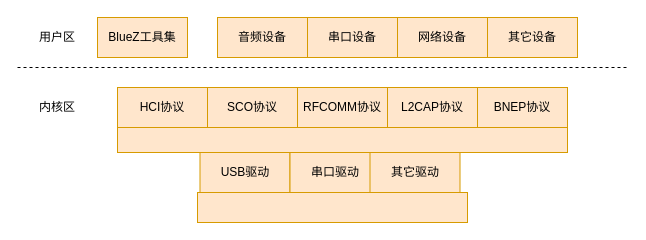
Some shapes in this 646 by 240 pixel diagram are drawn without their labels. Here are the shapes that lost their labels. From the top down, the centre of each, then its label:
At (342,139): "BlueZ和HCI核心层".
At (332,207): "蓝牙硬件设备".
